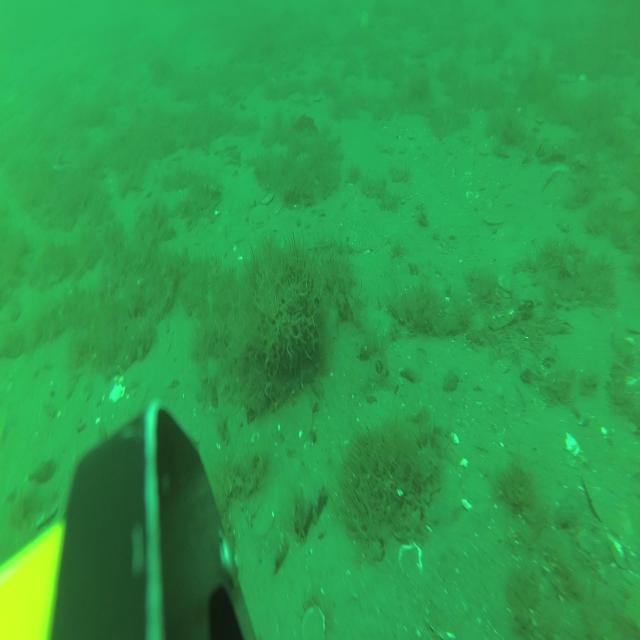scallop: (283, 391, 313, 454), (252, 496, 276, 538), (301, 603, 326, 640), (398, 540, 423, 576), (249, 205, 271, 228), (483, 206, 504, 226)
